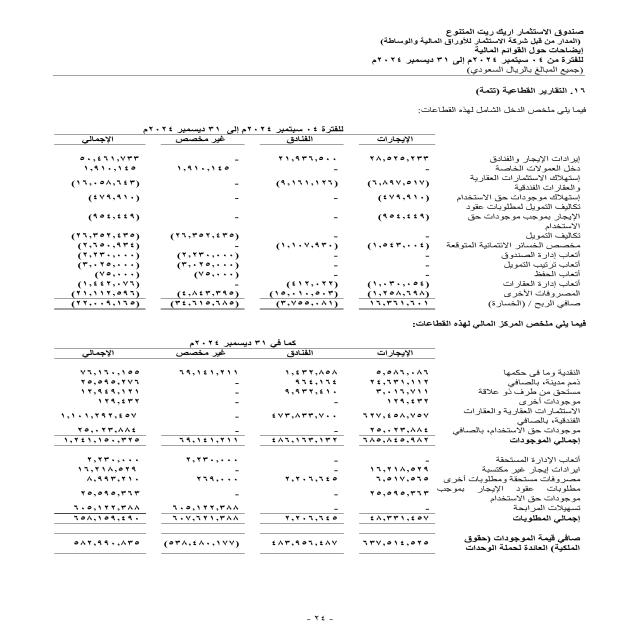notes: (438, 46, 590, 54)
table: (36, 334, 445, 562), (44, 118, 438, 312)
